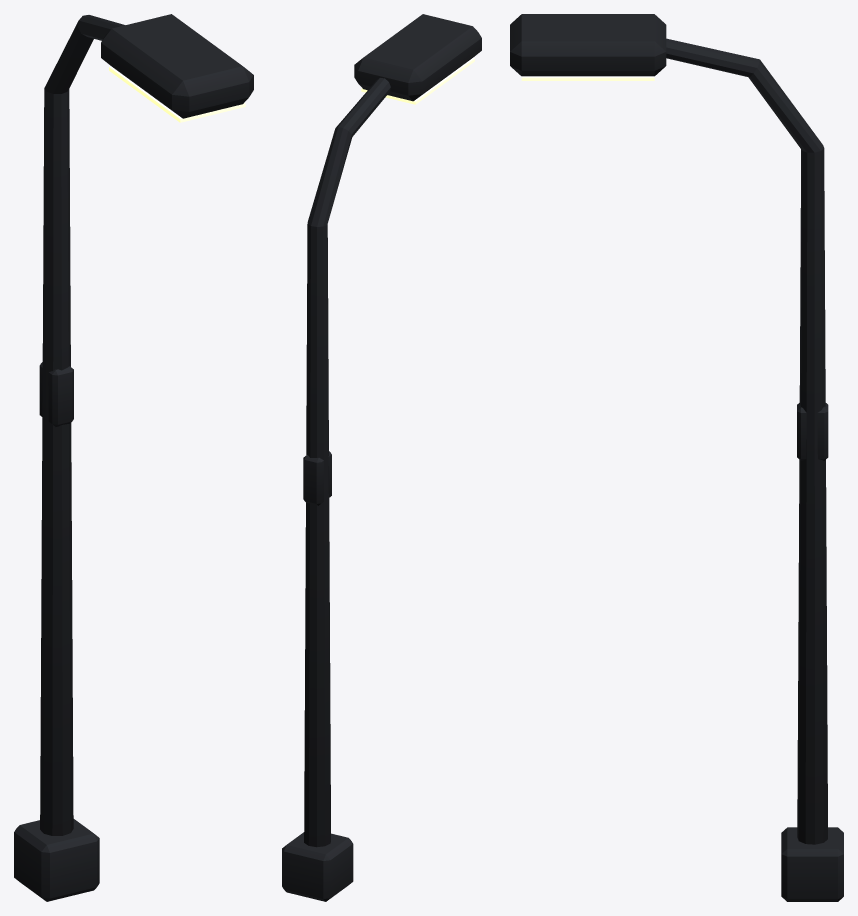
The model's file is street_lamp_01.glb.
3 renders of one model, left to right at view 1: azimuth 30°, elevation 25°; view 2: azimuth 150°, elevation 25°; view 3: azimuth 270°, elevation 25°, orthographic. The views are drawn at different scales.
Parts seen in each view (by area): view 1: street_lamp_01_LOD0; view 2: street_lamp_01_LOD0; view 3: street_lamp_01_LOD0.
Part boxes in pixels (x1,y1,x2,y2): street_lamp_01_LOD0: (14, 14, 253, 901); street_lamp_01_LOD0: (282, 14, 481, 901); street_lamp_01_LOD0: (510, 14, 843, 901).
Size of what is drawn, in the model's own units: 0.45 by 4.88 by 1.71.
1 material, 1 textured.
